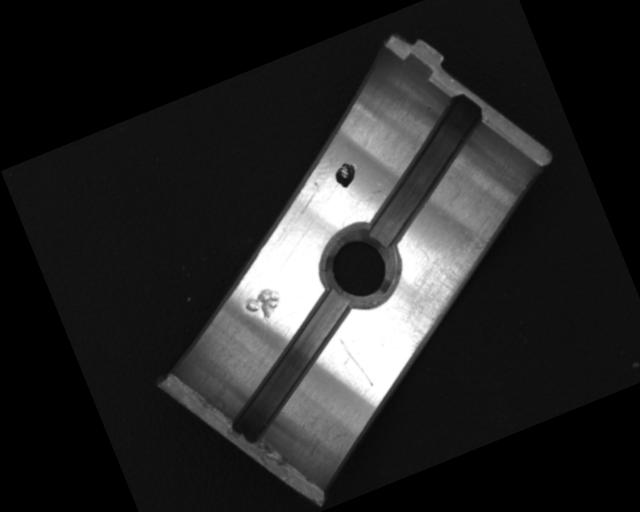blot: (330, 158, 361, 191)
bruise: (240, 284, 287, 328)
gap: (199, 288, 382, 448), (335, 90, 514, 249)
hole: (305, 213, 412, 320)
nick: (333, 327, 373, 392)
scratch: (371, 214, 528, 358)
